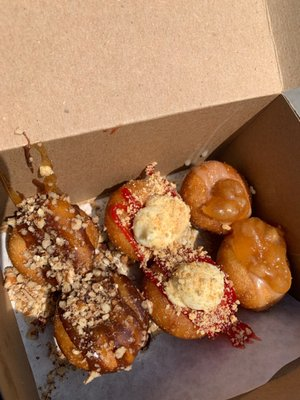pasta: (217, 216, 293, 312)
